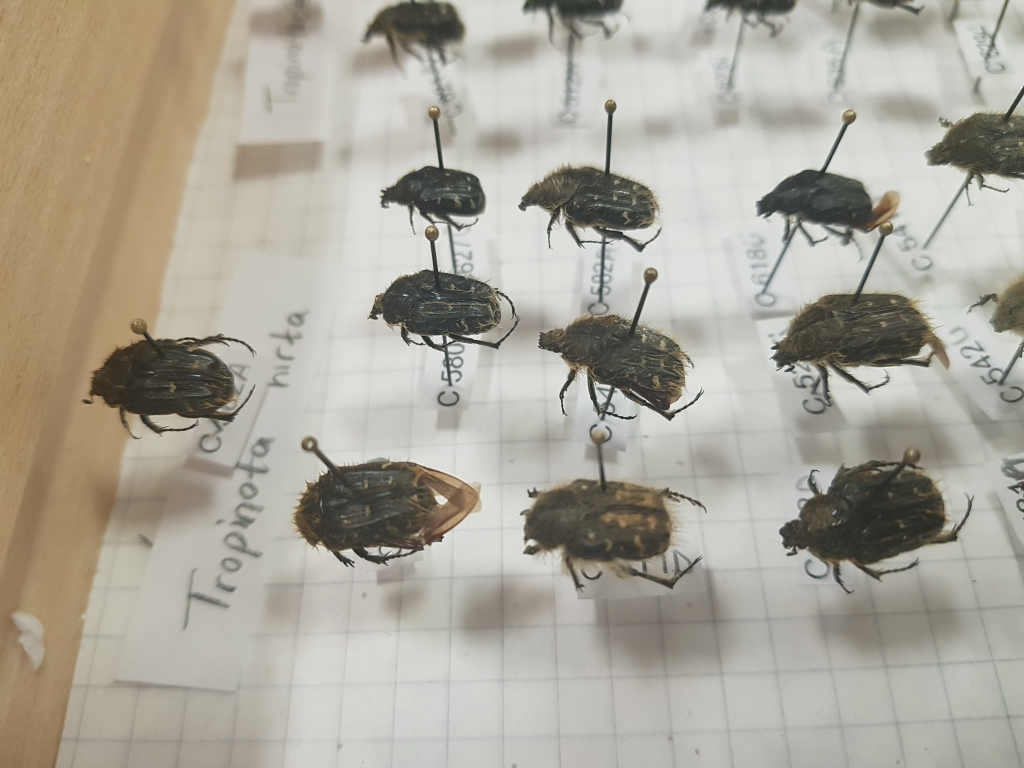Tropinota_hirta: (528, 297, 731, 418)
